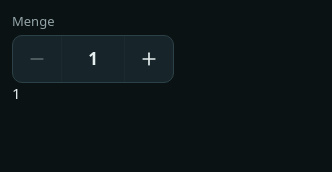
Scenario: Stepper › zählt mit Plus und Minus innerhalb der Grenzen
Click the button named "Mehr".
click(149, 59)  # box [125, 36, 173, 82]
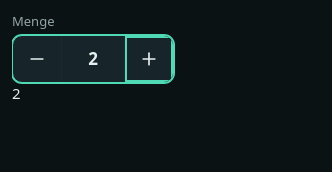
Click the button named "Mehr".
click(149, 59)  # box [125, 36, 173, 82]
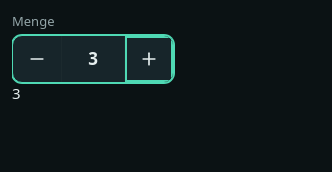
Now the field labelled "Menge" holds "3", box [61, 36, 125, 82]
Click the button named "Weniger".
click(37, 59)  # box [13, 36, 61, 82]
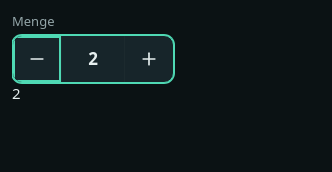
Now the text "2" is shown, box [12, 83, 21, 103]
